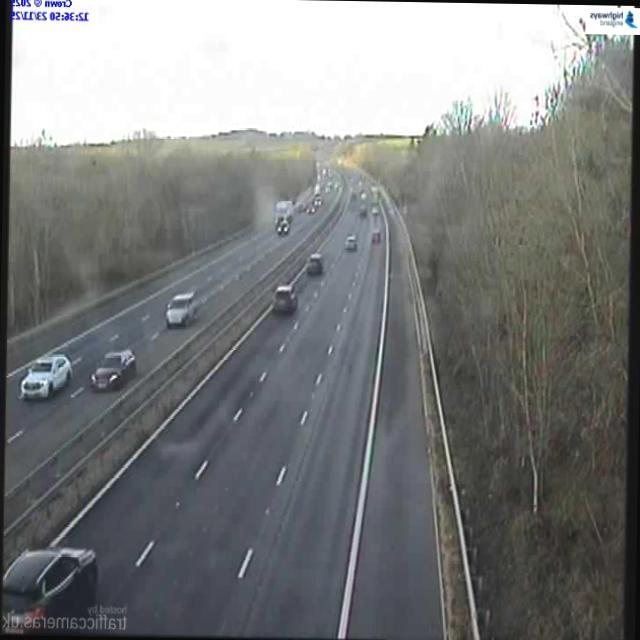foliage: (346, 13, 633, 640), (4, 134, 314, 327)
